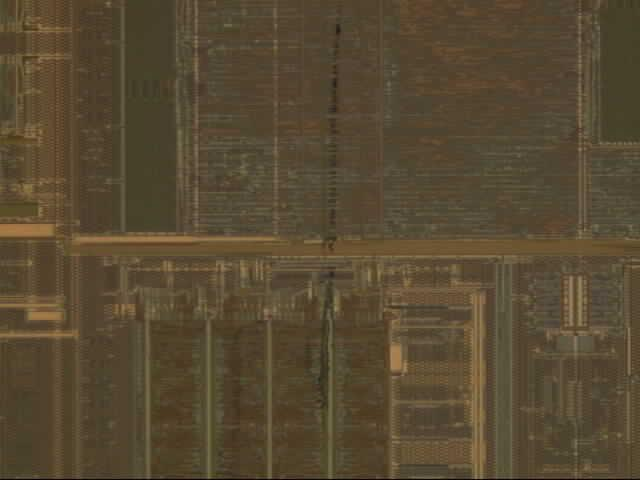SCRATCH: (314, 1, 351, 434)
